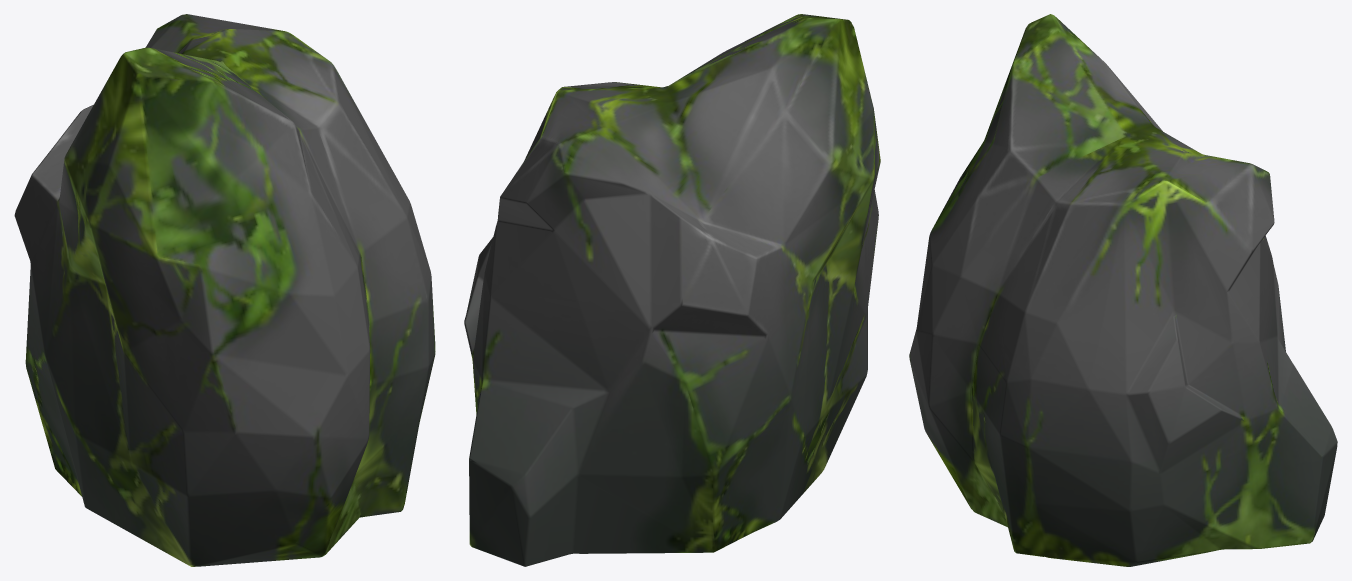
File: ROCK_MESH_04.fbx
3 views of the same model, side by side, from view 1: azimuth 30°, elevation 25°; view 2: azimuth 150°, elevation 25°; view 3: azimuth 270°, elevation 25° (orthographic). The views are drawn at different scales.
Parts seen in each view (by area): view 1: defaultMaterial.007; view 2: defaultMaterial.007; view 3: defaultMaterial.007.
Boxes of the visible parts, x1,y1,x2,y2 form: defaultMaterial.007: (14,14,435,566); defaultMaterial.007: (464,14,880,566); defaultMaterial.007: (909,14,1337,566).
Size of the model in its own units: 1618 by 2168 by 1935.
